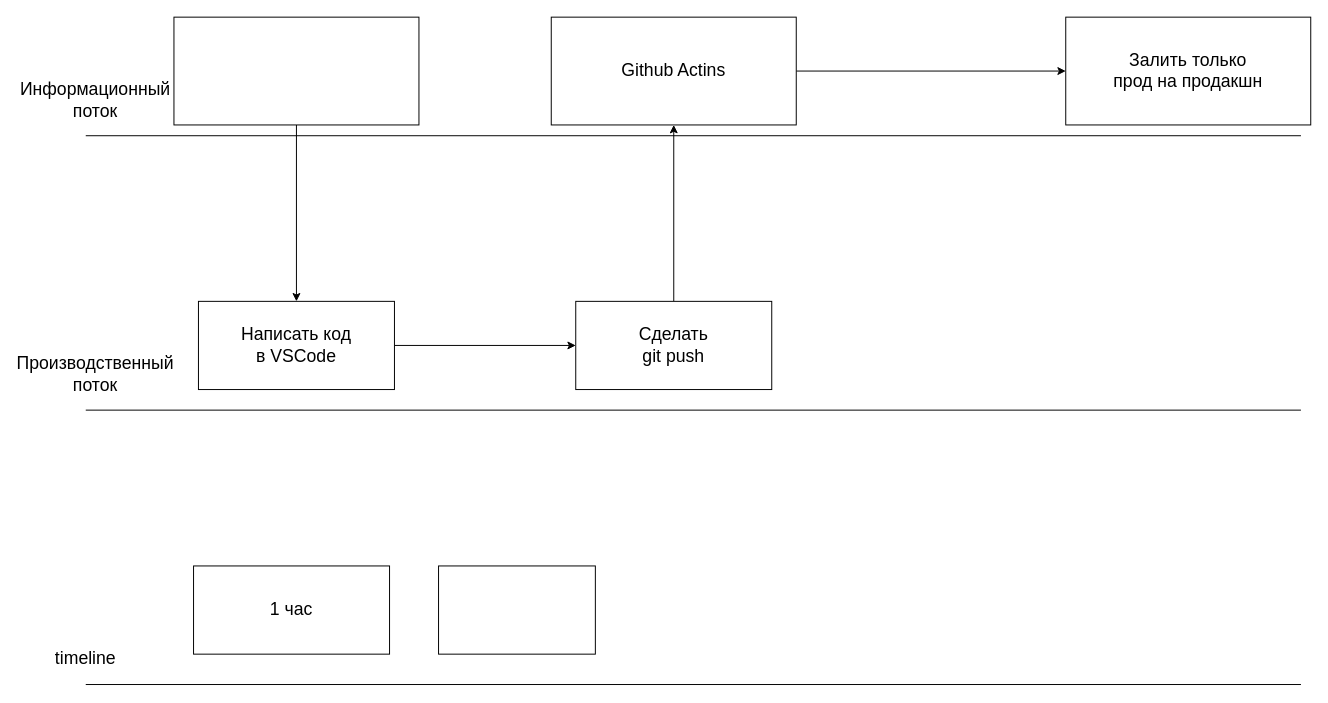
Some shapes in this 1328 by 703 pixel diagram are drawn without their labels. Here are the shapes that lost their labels. From the top down, the box of each, then its label:
(173, 16, 419, 125): Добавить новое на сайт
(438, 565, 595, 654): 3 мин
